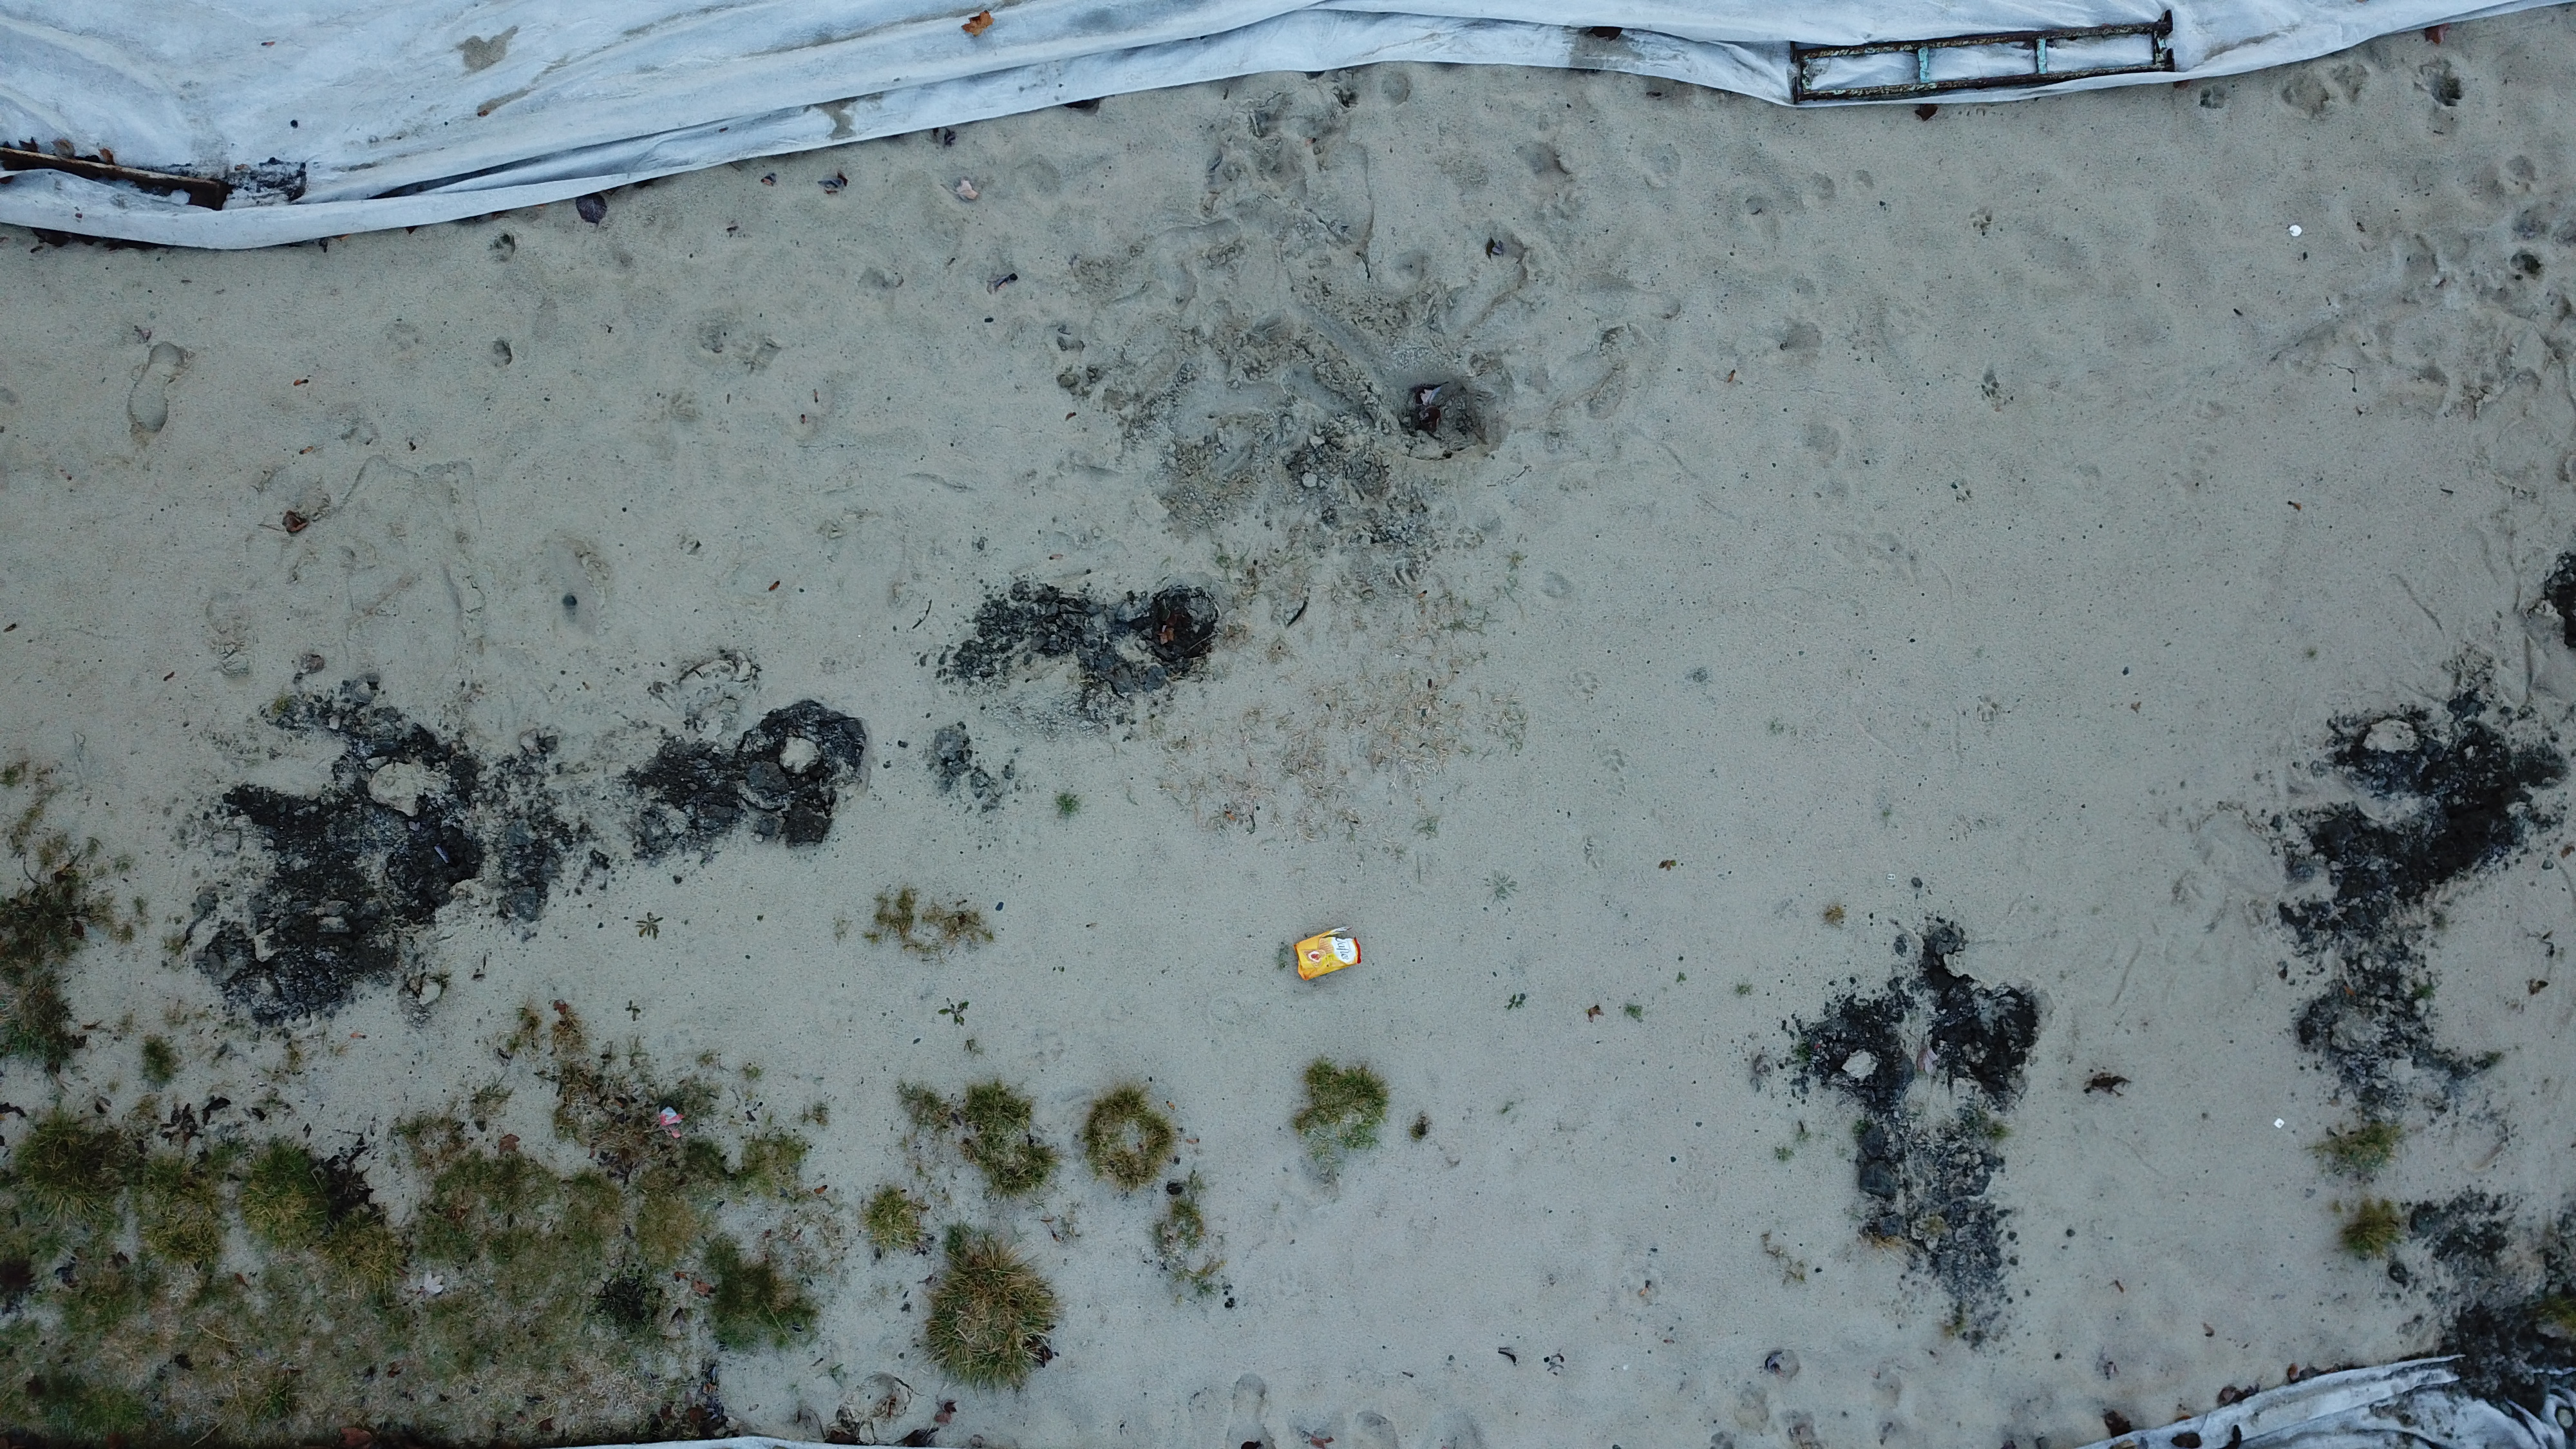Plastic: (1290, 927, 1364, 978), (656, 1106, 688, 1139)
